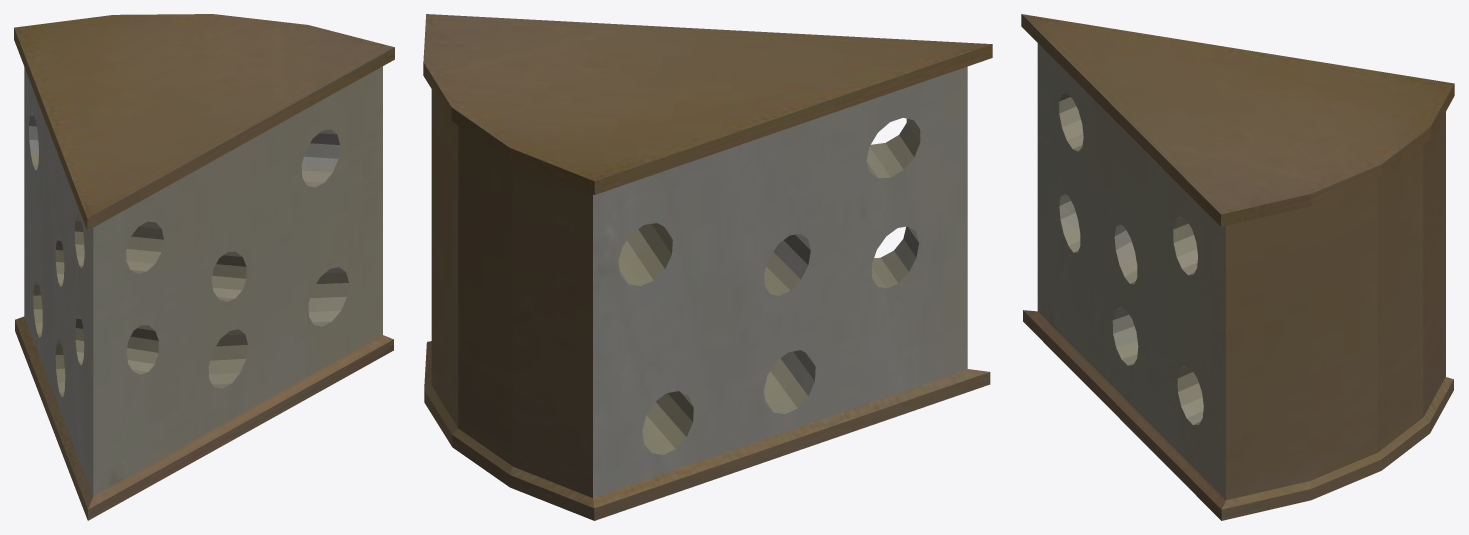
The model's file is cheese.glb.
The picture shows the model from 3 angles, left to right: view 1: azimuth 30°, elevation 25°; view 2: azimuth 150°, elevation 25°; view 3: azimuth 270°, elevation 25°; orthographic projection. The views are drawn at different scales.
Parts seen in each view (by area): view 1: Cheese; view 2: Cheese; view 3: Cheese.
Boxes of the visible parts, bbox=[...] form: Cheese: bbox=[14, 14, 394, 520]; Cheese: bbox=[423, 14, 992, 520]; Cheese: bbox=[1021, 14, 1454, 520].
Bounding box in the file's own units: 0.4764 × 0.3397 × 0.4348.
Materials: 1 (1 with a texture image).
